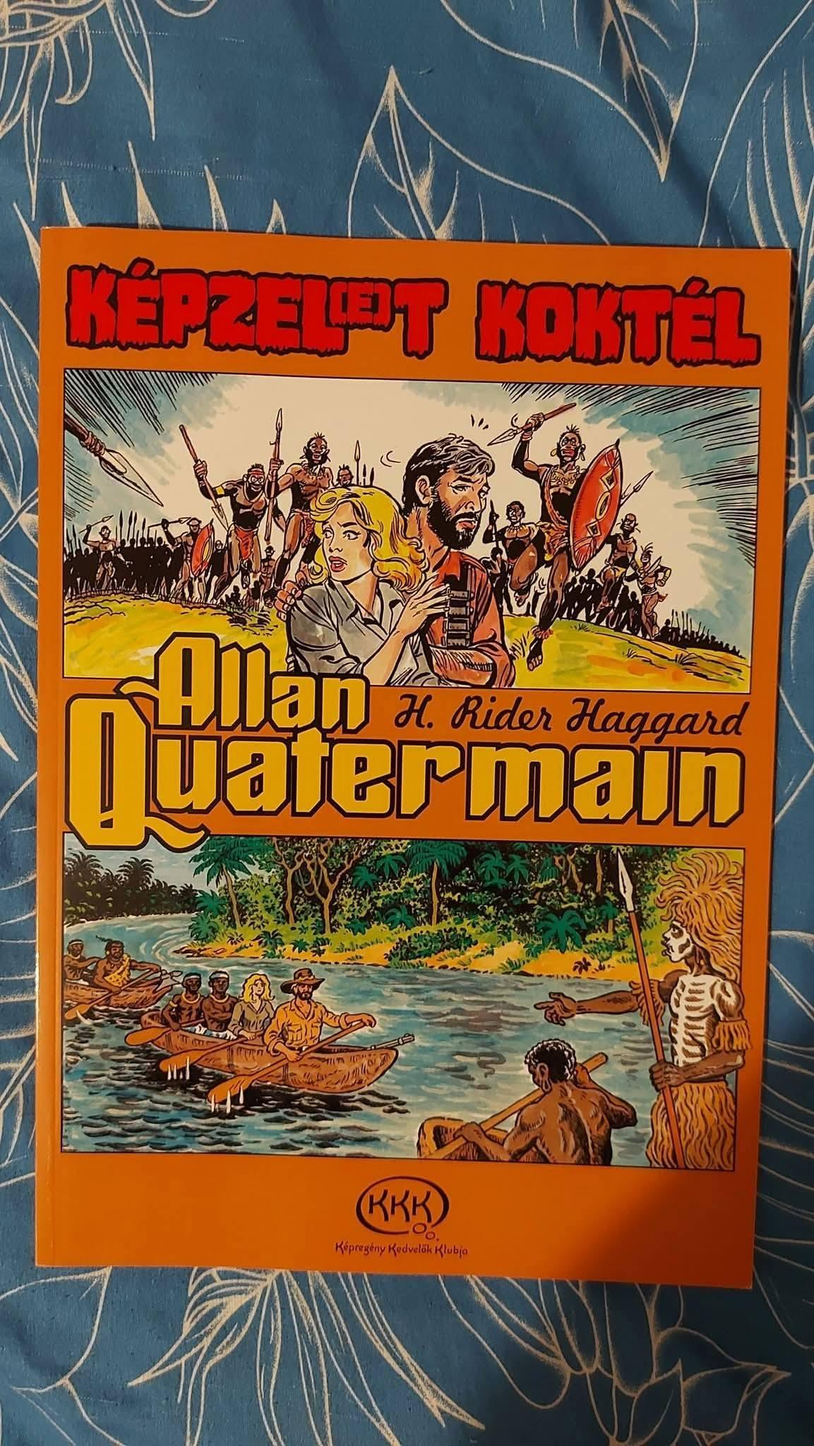comic: (10, 227, 791, 1286)
